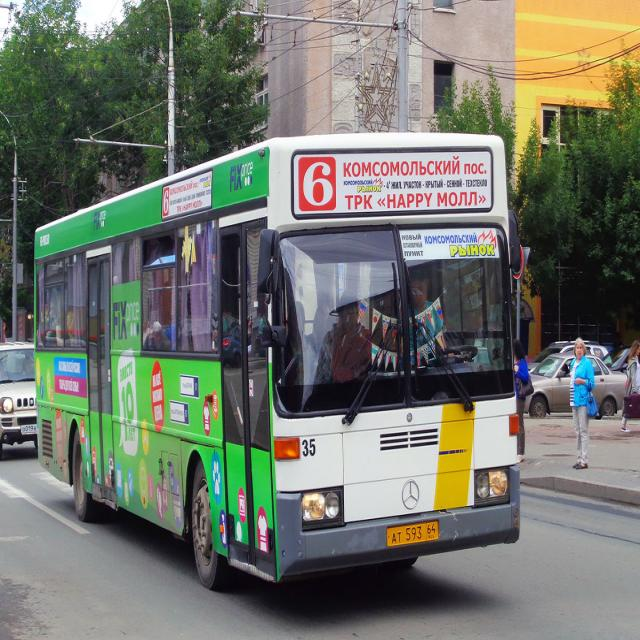number-of-bus: (302, 160, 336, 209), (164, 189, 171, 217)
